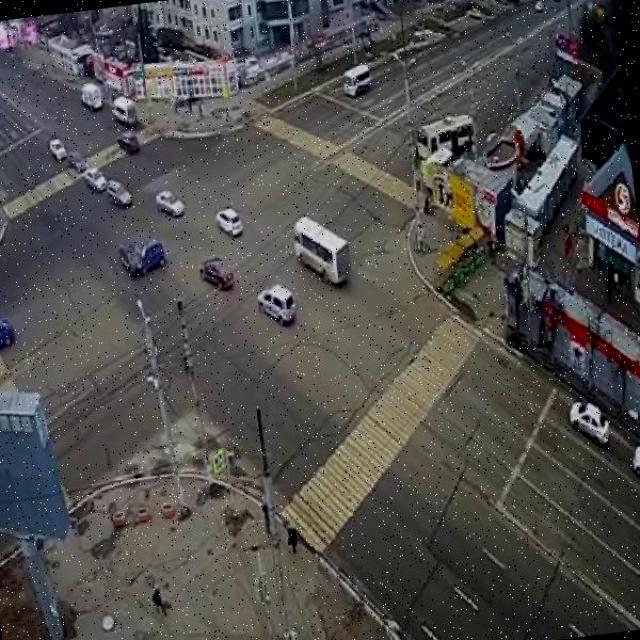accident: (122, 243, 154, 273)
